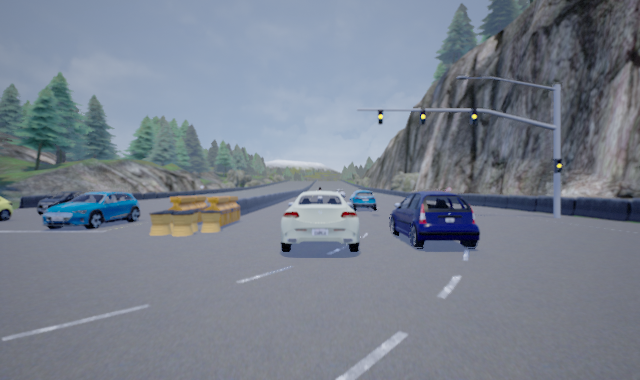vehicle: (389, 190, 479, 250), (279, 191, 359, 253), (42, 191, 139, 230), (35, 191, 100, 216), (347, 189, 378, 212), (1, 193, 13, 224)
